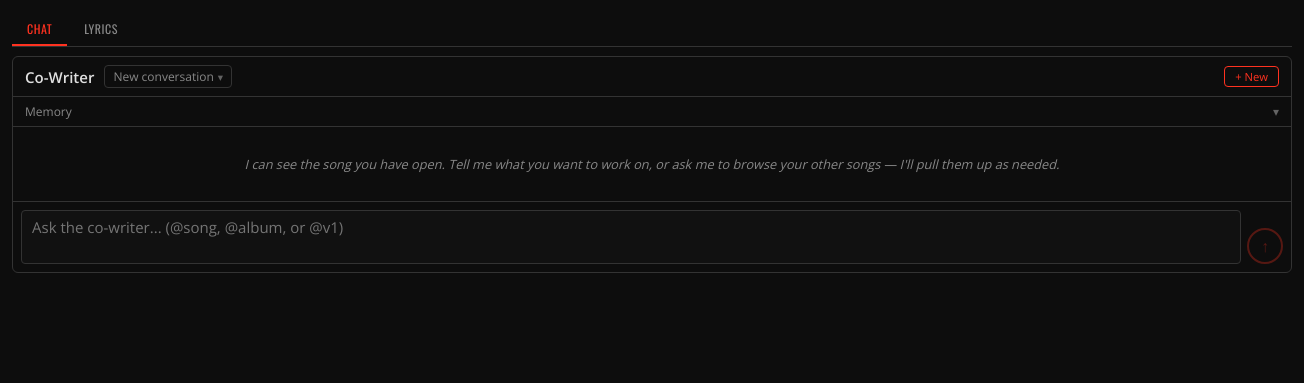
Test: WriteColumn Co-Writer mode › splits Chat | Lyrics into tabs and leaves the take strip out of the Co-Writer sheet on mobile
Expected: the element with class "mobile-subtabs" is shown, [12,12,1292,47]
Expected: the element with class "cowriter-chat" is shown, [12,56,1292,273]
Click the tab "Lyrics" at (101, 29), box [69,12,133,46]
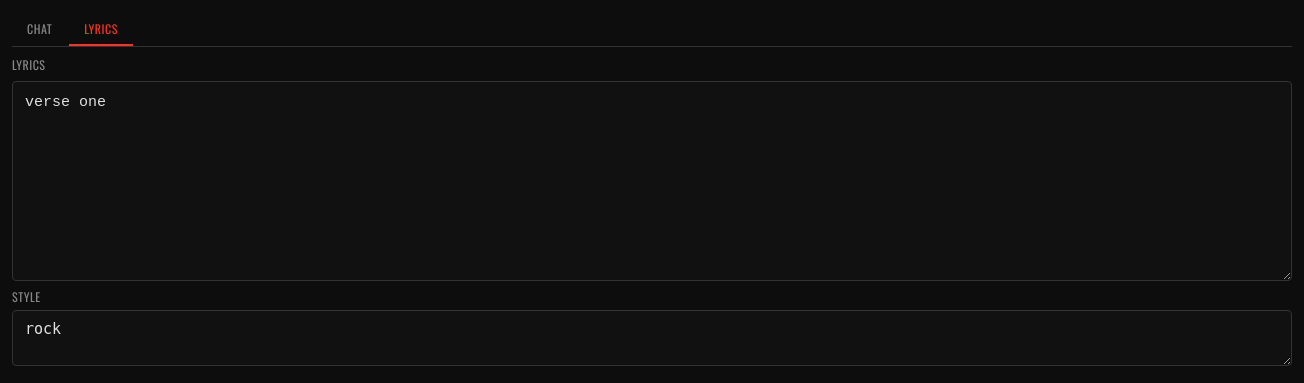
Expected: the element with class "cowriter-lyrics" is shown
Expected: the element with class "cowriter-chat" is gone
